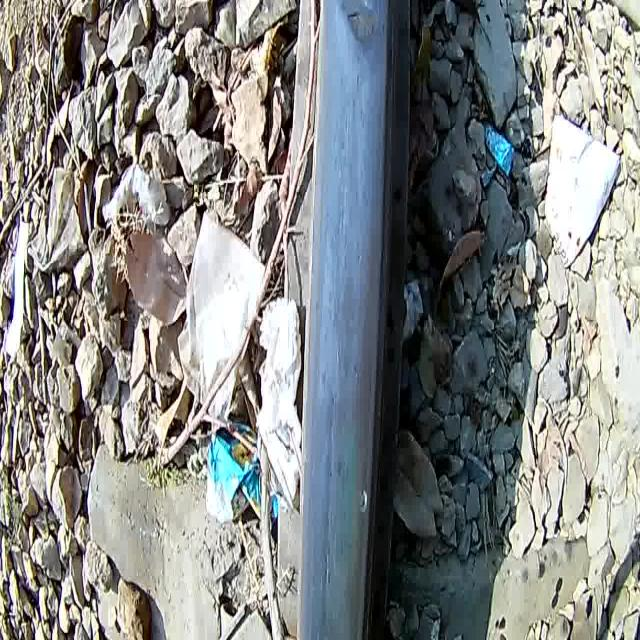Squats: (281, 0, 418, 640)
